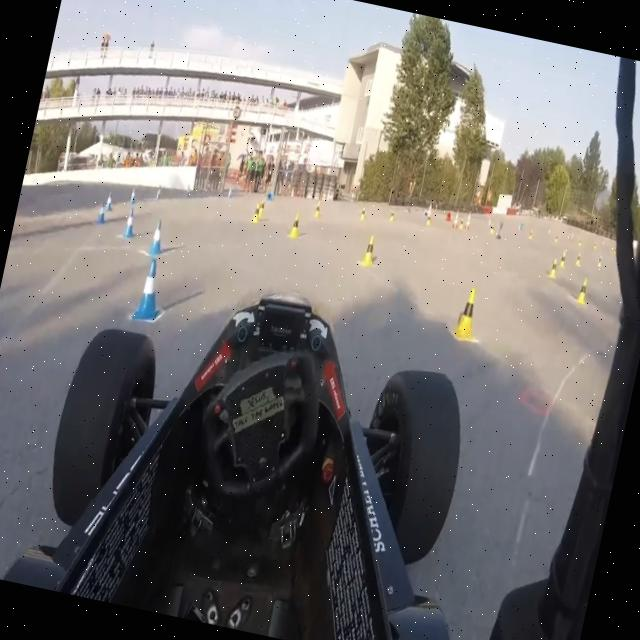yellow_cone: (442, 275, 487, 353), (135, 251, 168, 318), (142, 218, 170, 257), (360, 232, 384, 260), (286, 212, 308, 242), (120, 211, 139, 244), (246, 193, 266, 224)
